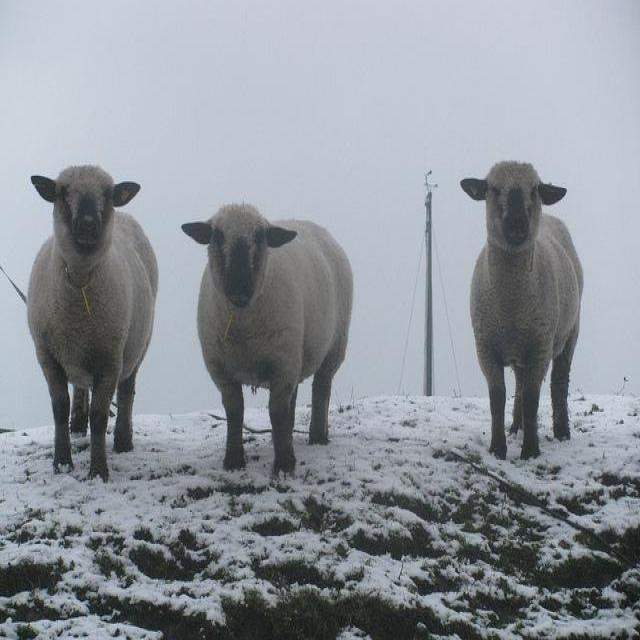Sheep: (183, 204, 354, 480), (28, 168, 159, 485), (457, 153, 583, 467)
